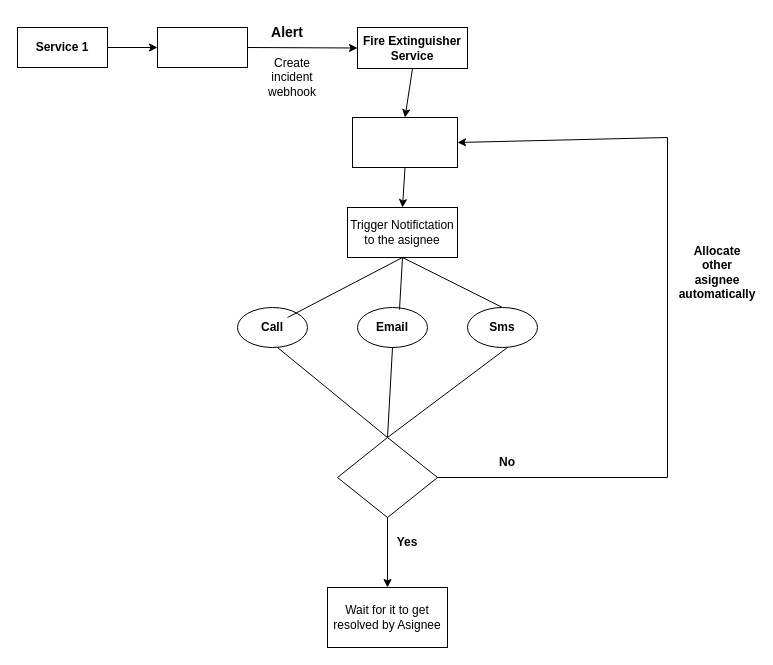
This 773x665 diagram has some shape labels left out. Here are the shapes that lost their labels. From the top down, the centre of each, then its label:
the point at 202,47: Monitoring tools
the point at 405,142: Allocate asignee
the point at 387,477: Acknowledged
